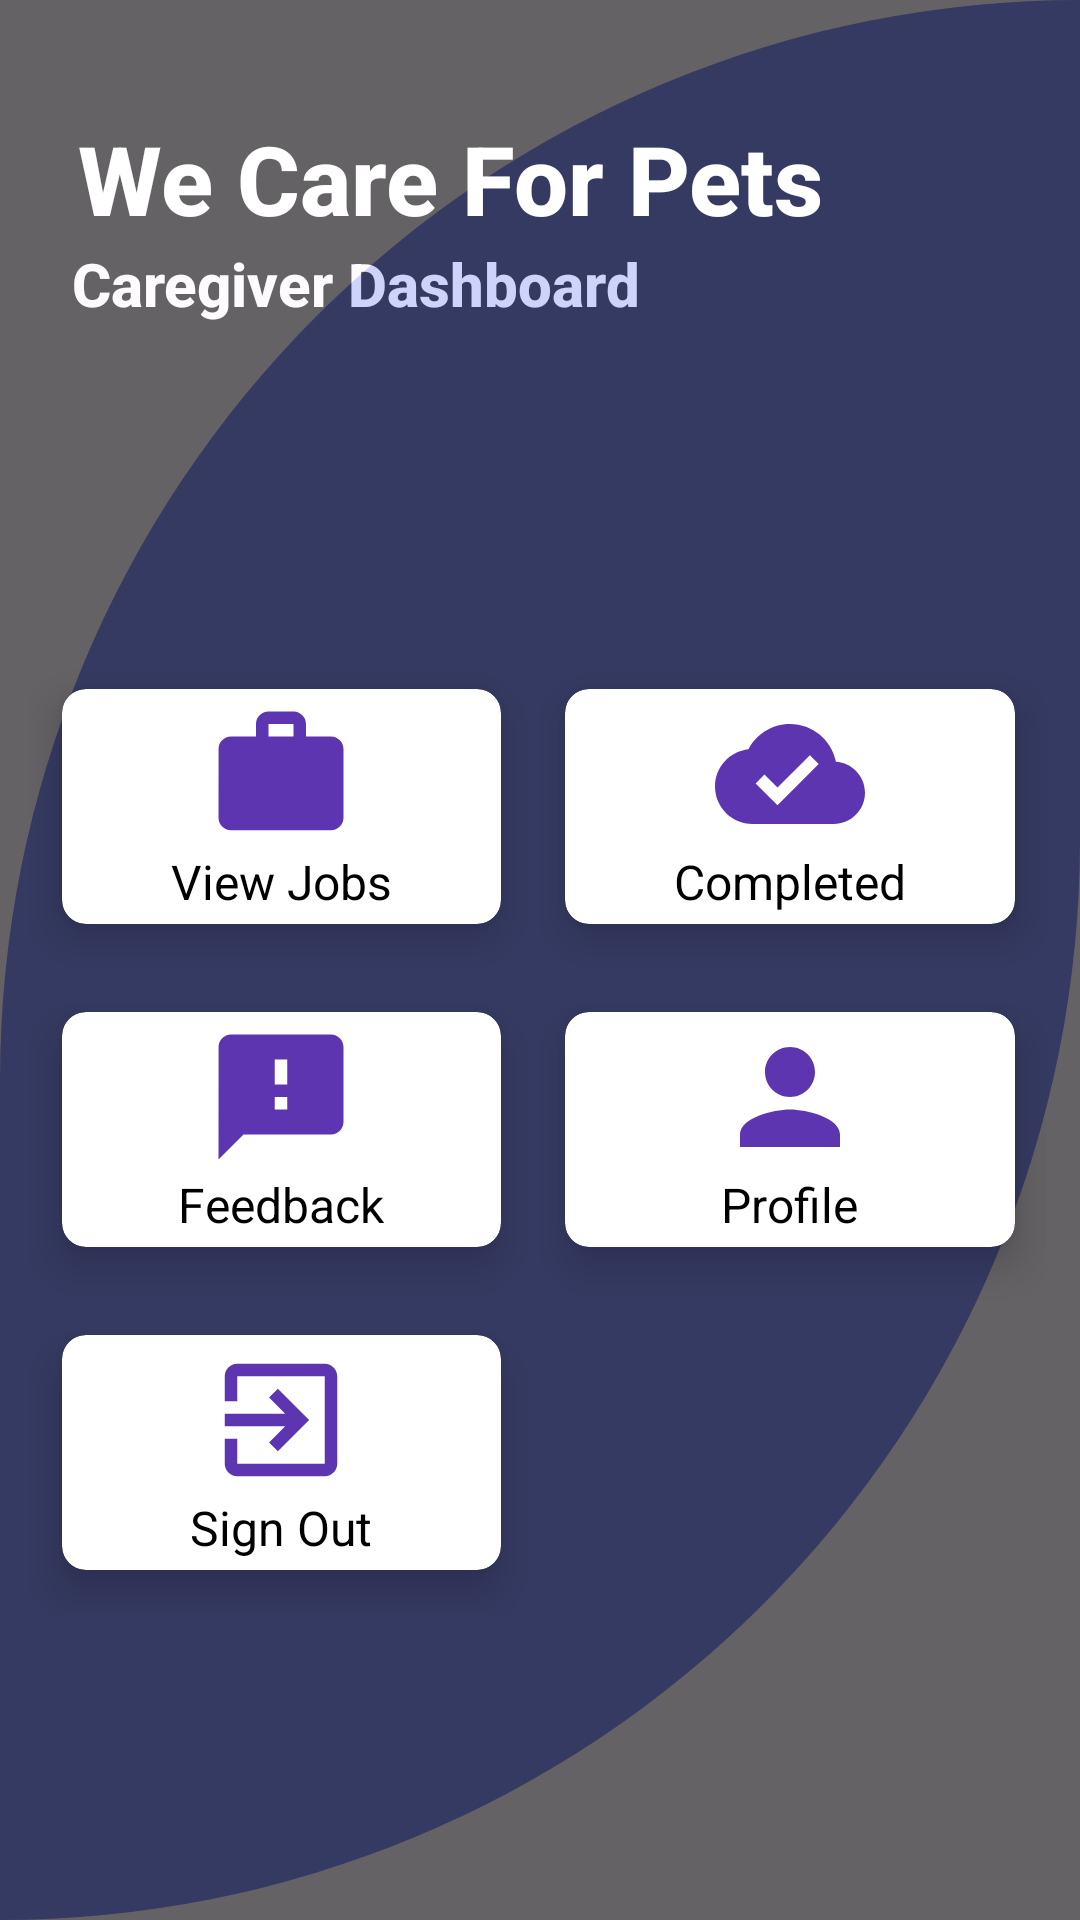

Icons on this 1080px×1920px Android screen, each with its box as (x1, y1, x2, y2):
person: (740, 1047, 840, 1147)
